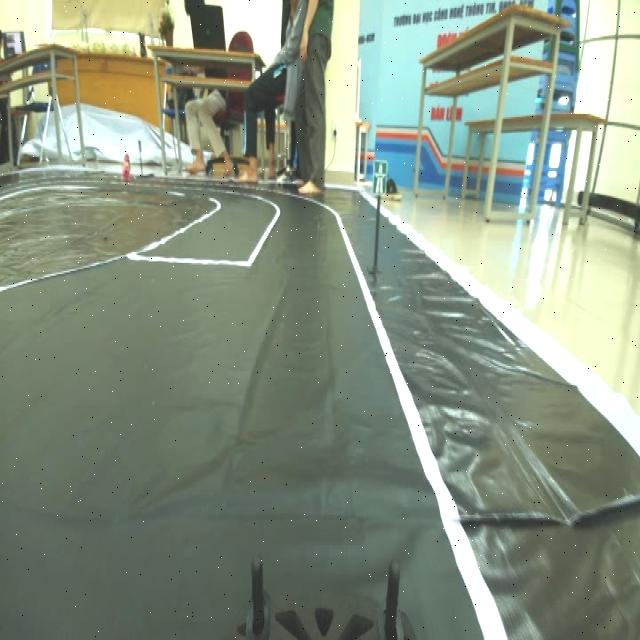highway_entry: (370, 147, 391, 198)
